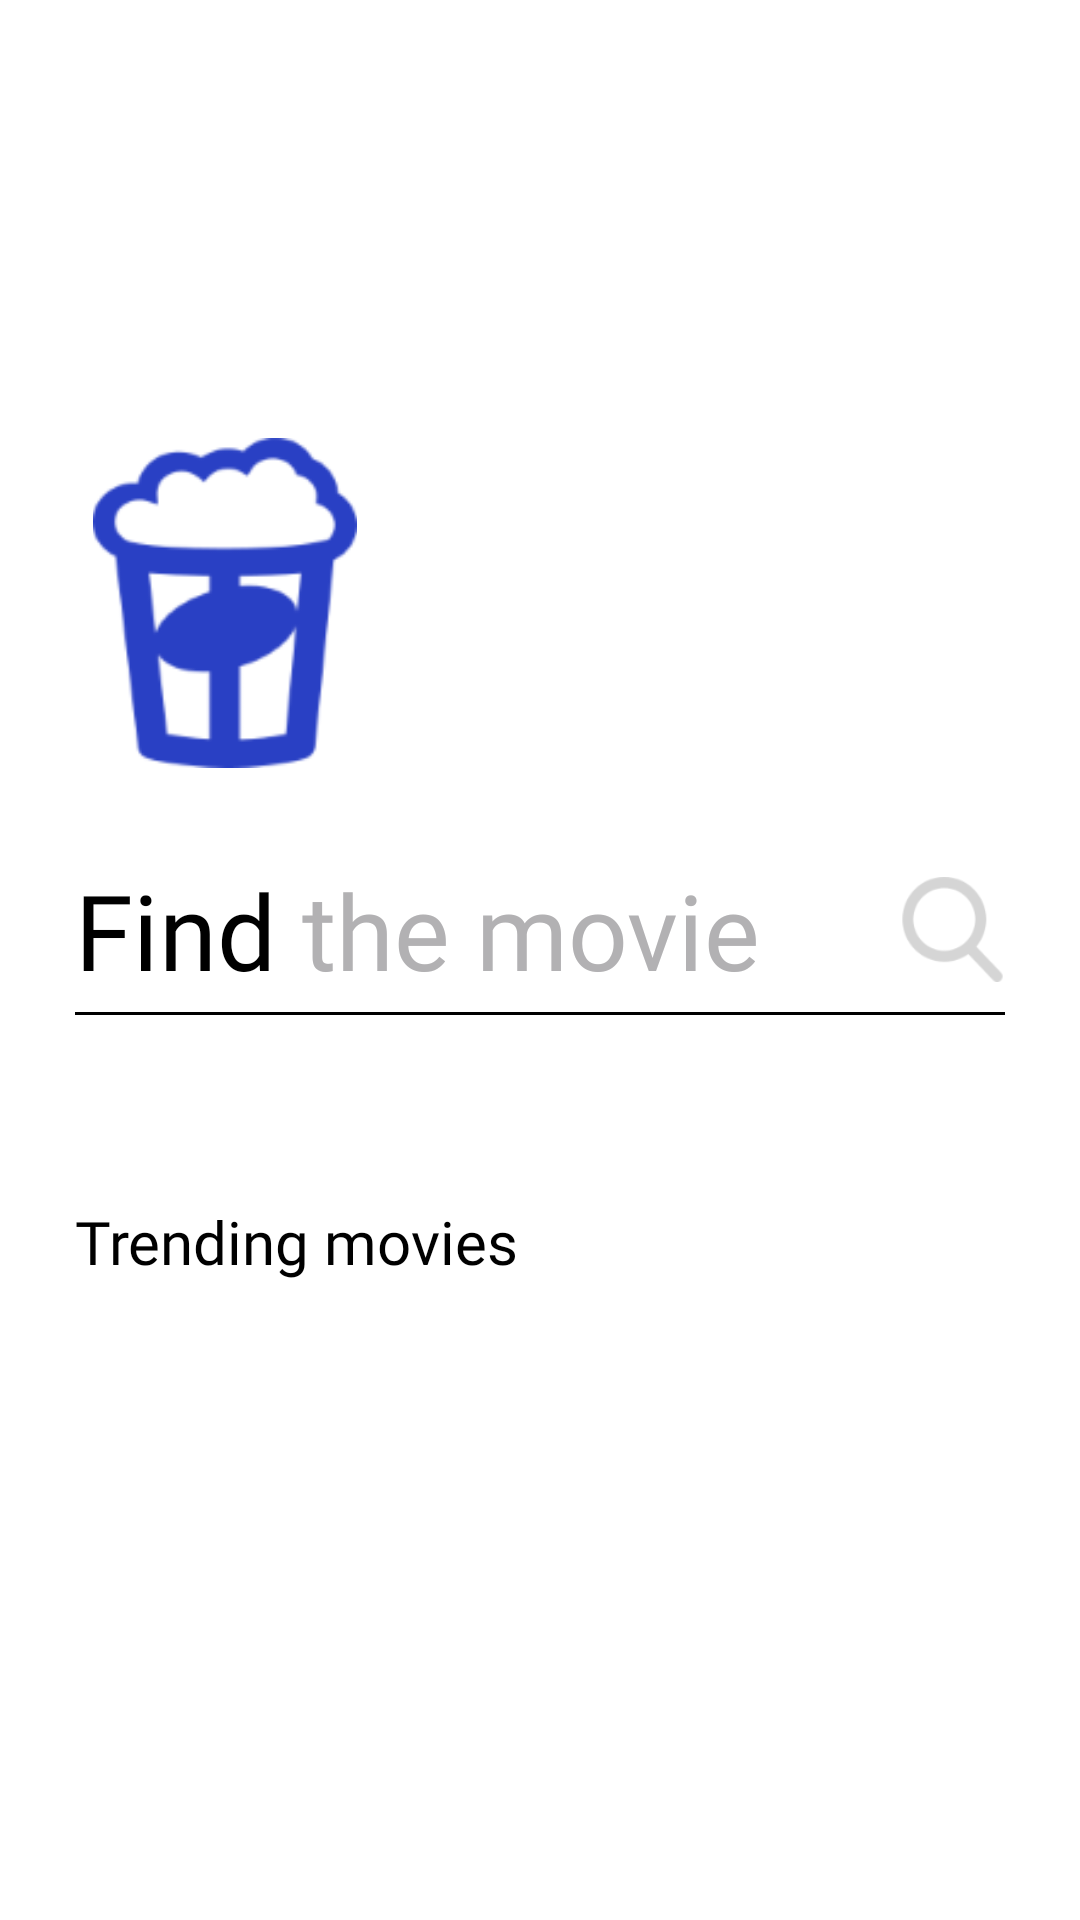

Point at icon controls on the screen. Image size 1080*1920, points as (x=x, y=y).
Search image: (x=952, y=929)
